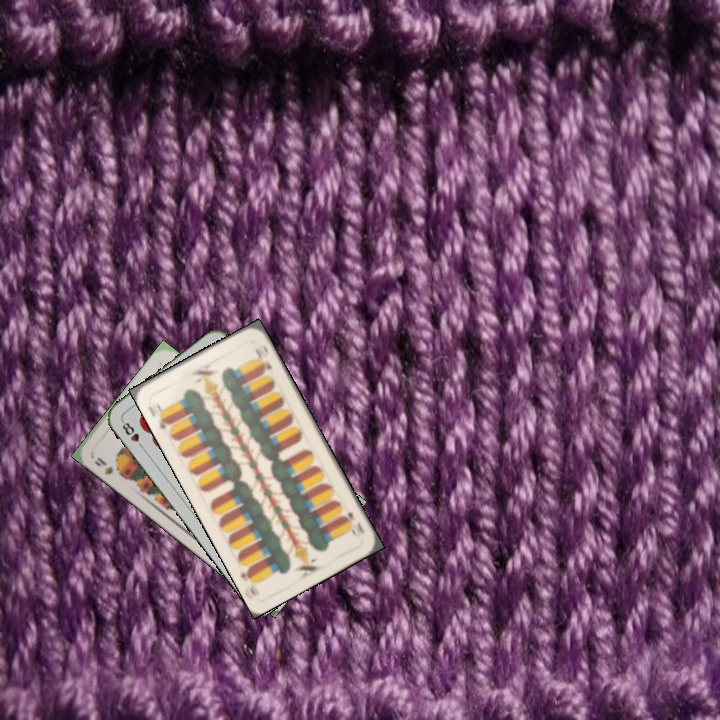E10: (340, 506, 367, 540), (152, 399, 173, 432)
H8: (118, 416, 147, 451)
S9: (90, 453, 125, 479)
